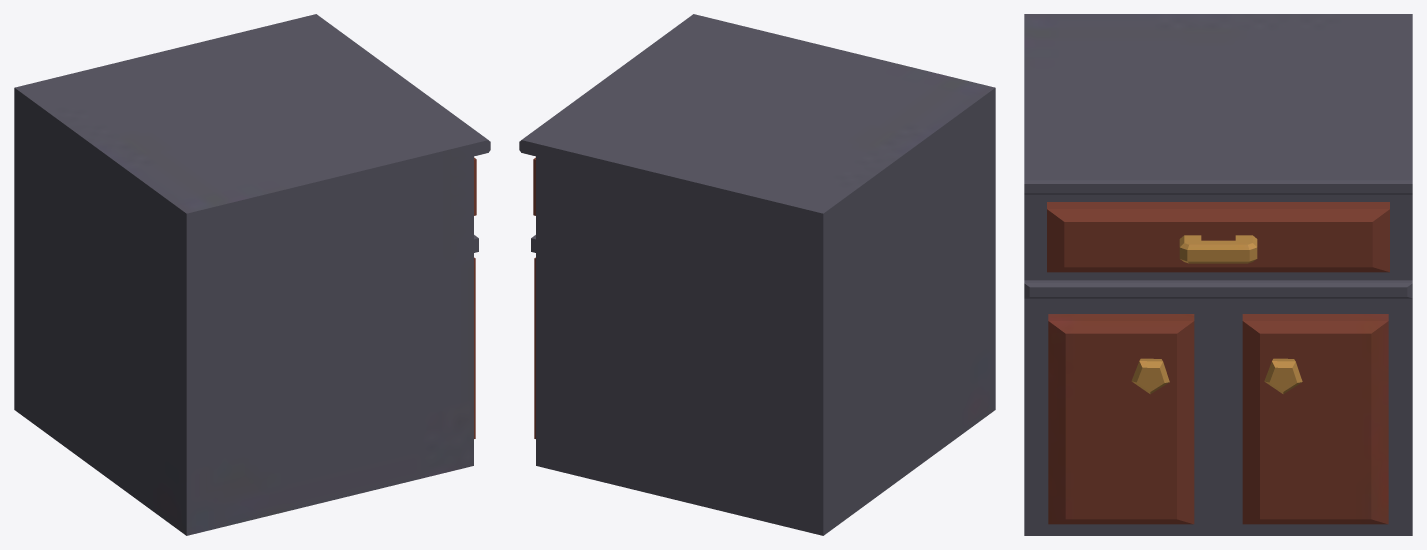
File: chest.fbx
3 renders of one model, left to right at view 1: azimuth 30°, elevation 25°; view 2: azimuth 150°, elevation 25°; view 3: azimuth 270°, elevation 25°, orthographic. The views are drawn at different scales.
Parts seen in each view (by area): view 1: chest; view 2: chest; view 3: chest.
Boxes of the visible parts, x1=… form: chest: x1=14, y1=14, x2=490, y2=535; chest: x1=519, y1=14, x2=995, y2=535; chest: x1=1024, y1=14, x2=1412, y2=535.
Size of the model in its own units: 63.49 by 59.74 by 57.85.
